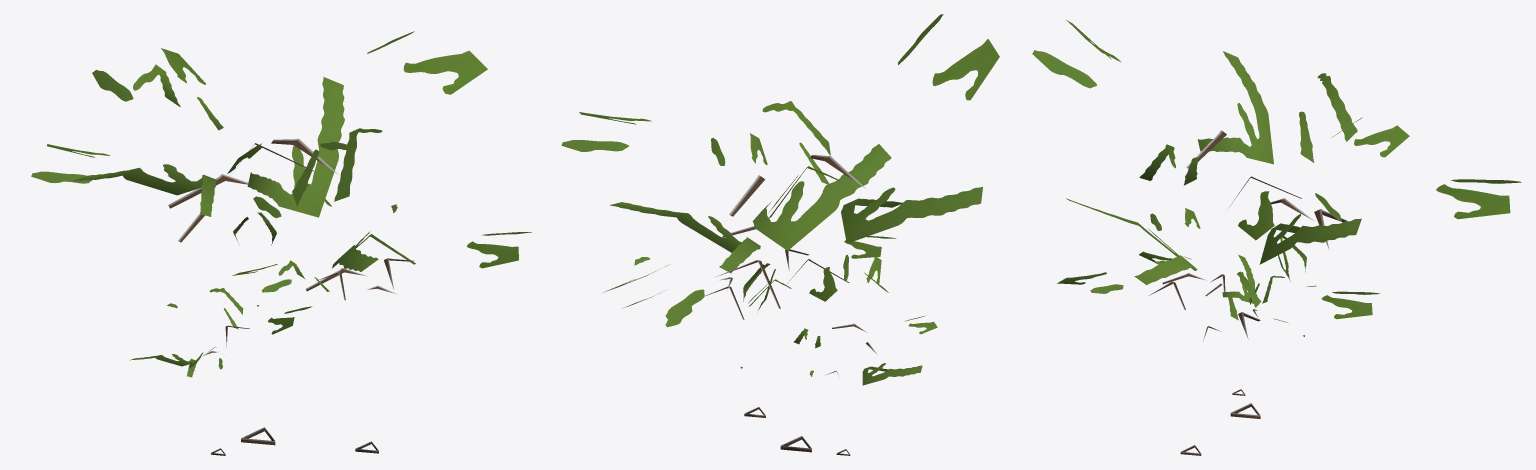
The model's file is City_bujian_37.fbx.
3 views of the same model, side by side, from view 1: azimuth 30°, elevation 25°; view 2: azimuth 150°, elevation 25°; view 3: azimuth 270°, elevation 25° (orthographic). The views are drawn at different scales.
Visible parts, largest first — view 1: pasted__Mesh_0361; view 2: pasted__Mesh_0361; view 3: pasted__Mesh_0361.
Boxes of the visible parts, x1=… form: pasted__Mesh_0361: x1=31, y1=31, x2=531, y2=455; pasted__Mesh_0361: x1=561, y1=14, x2=999, y2=455; pasted__Mesh_0361: x1=1032, y1=20, x2=1521, y2=455.
Size of the model in its own units: 3.57 by 3.31 by 3.97.
